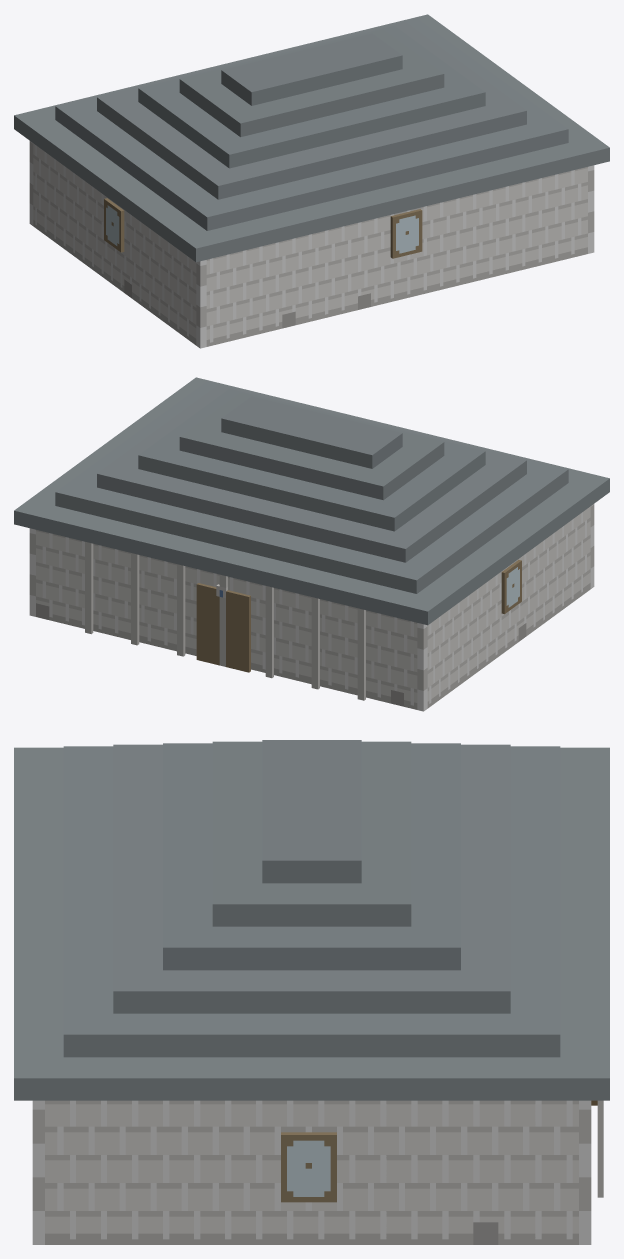
File: banos_comunales_03.glb
The picture shows the model from 3 angles, top to bottom: view 1: azimuth 30°, elevation 25°; view 2: azimuth 150°, elevation 25°; view 3: azimuth 270°, elevation 25°; orthographic projection. The views are drawn at different scales.
Visible parts, largest first — view 1: banos_comunales_03; view 2: banos_comunales_03; view 3: banos_comunales_03.
Boxes of the visible parts, x1=… form: banos_comunales_03: x1=14, y1=14, x2=609, y2=348; banos_comunales_03: x1=14, y1=377, x2=609, y2=711; banos_comunales_03: x1=14, y1=740, x2=609, y2=1244.
Size of the model in its own units: 12.6 by 5.1 by 9.6.
